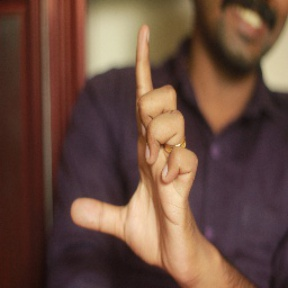L: (69, 23, 199, 266)
